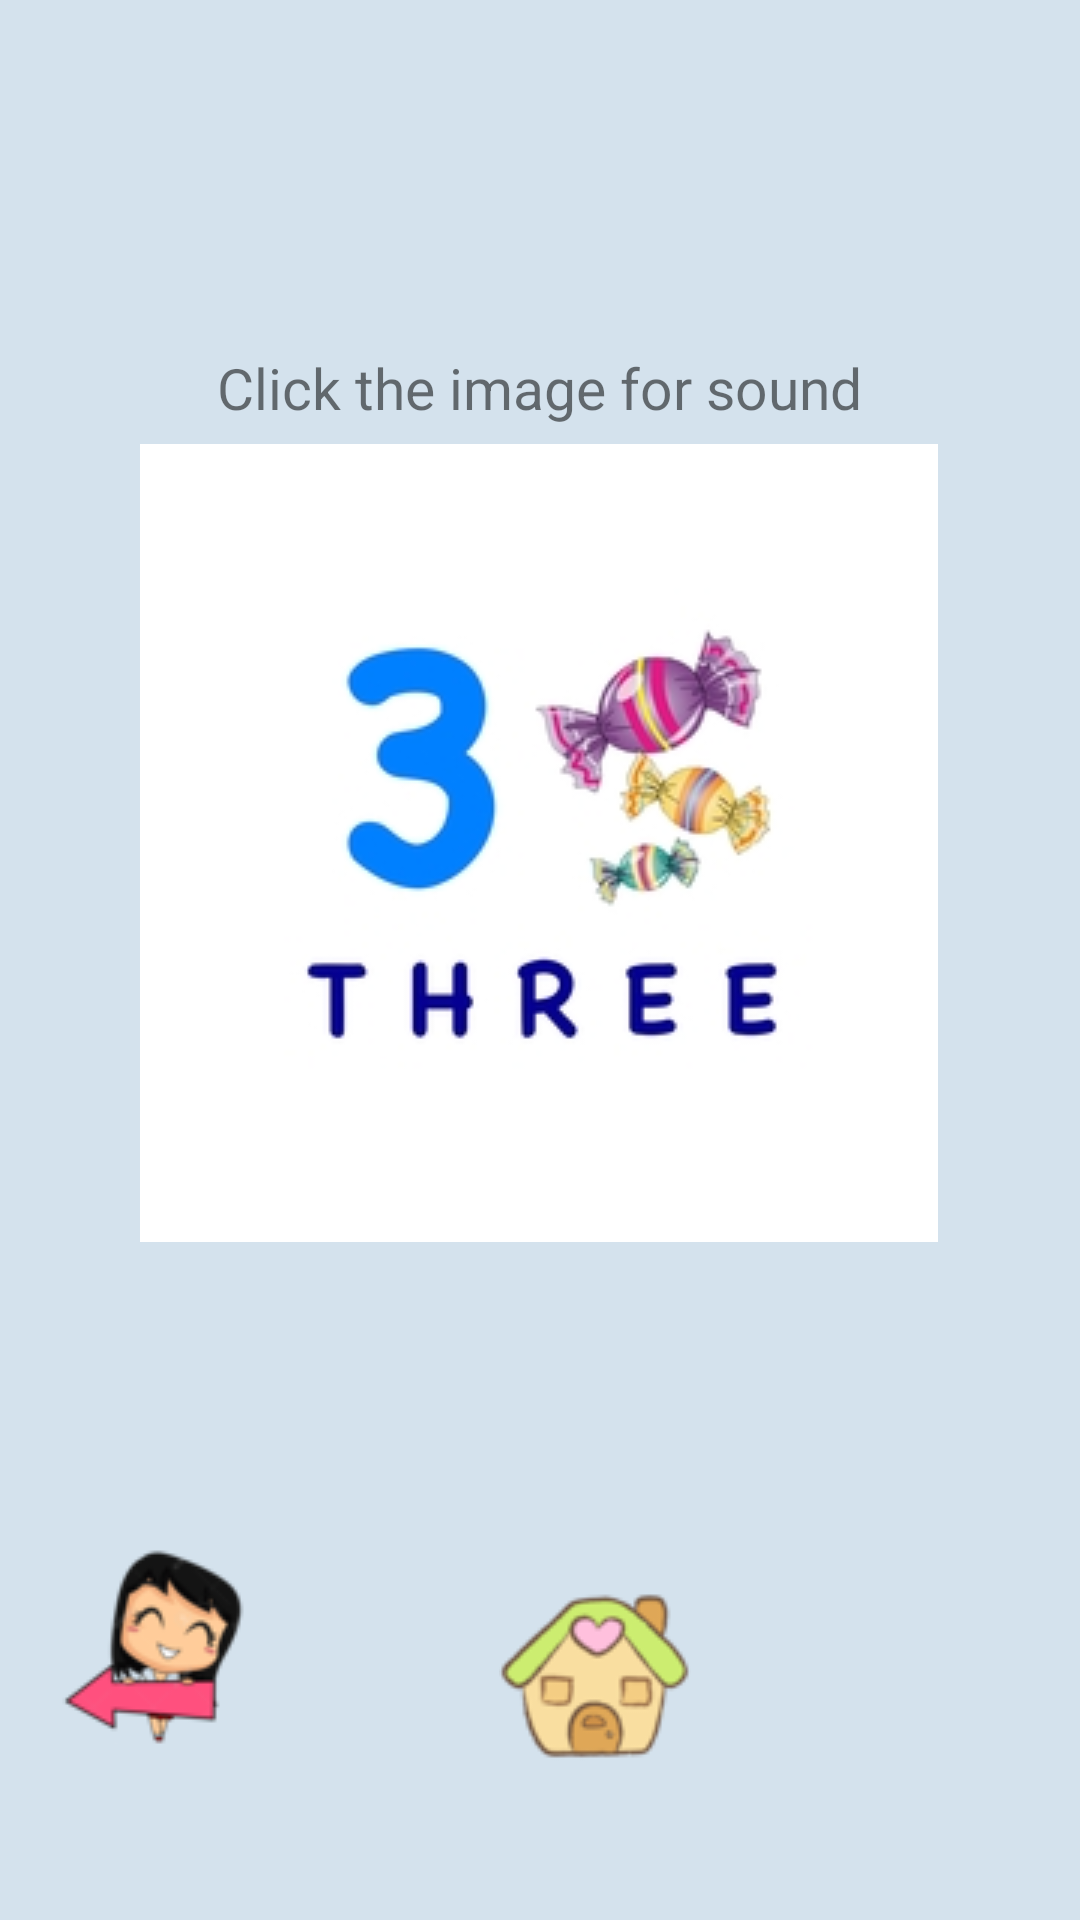

Icons on this 1080px x 1920px Android screen, each with the point to tap as point (x, y):
home: point (595, 1676)
prev: point (154, 1647)
